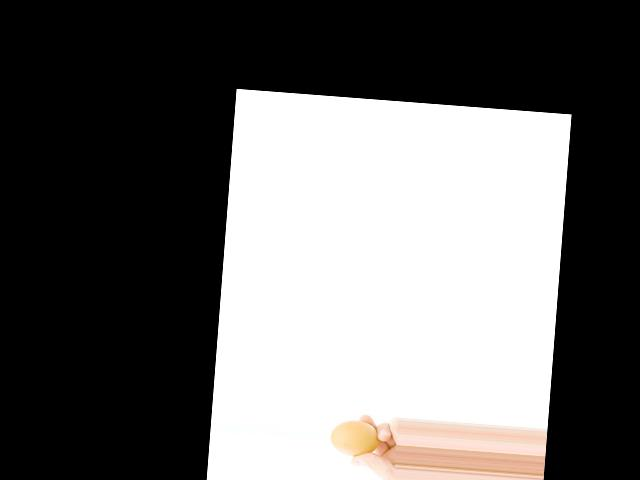egg: (329, 418, 379, 457)
